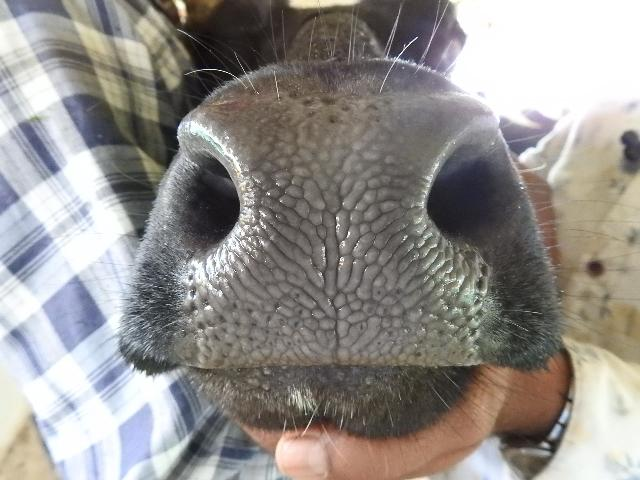Muzzle: (227, 120, 443, 364)
